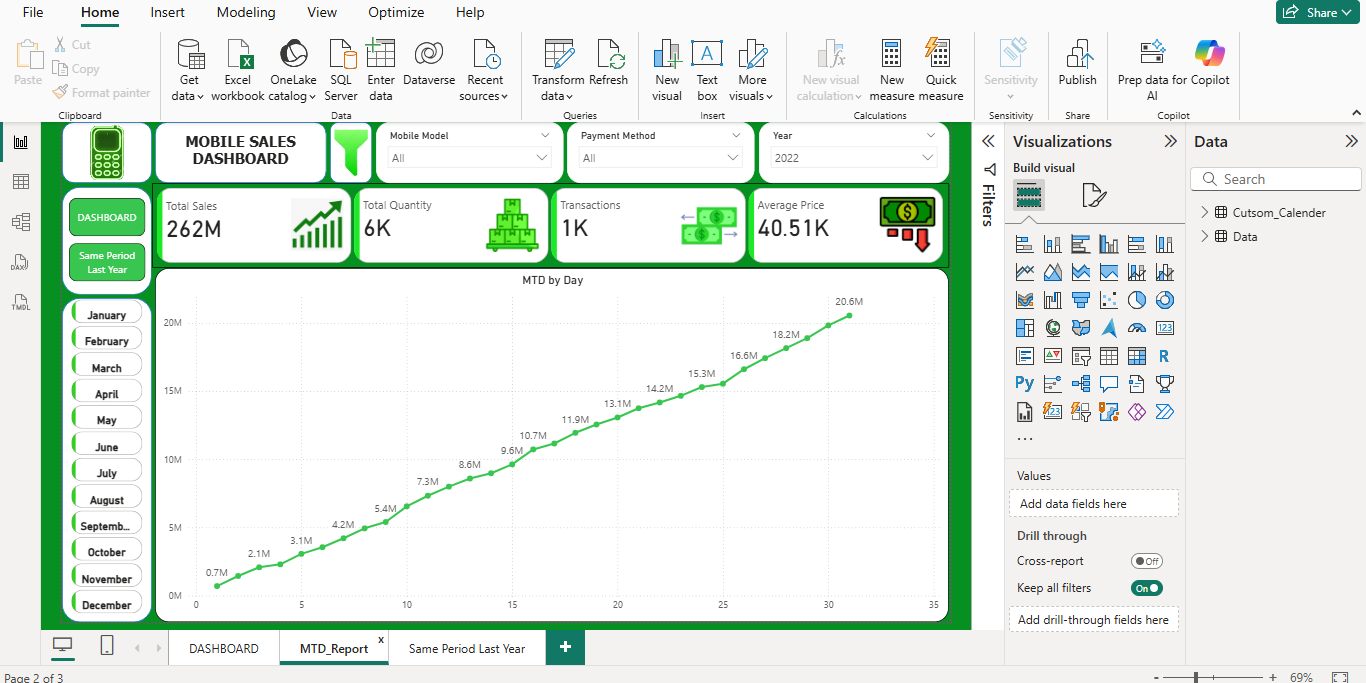

This screenshot's page, from the dashboard's own definition file:
{"tool":"powerbi","page":{"name":"MTD_Report","canvas":[1280,720],"ordinal":1},"visuals":[{"type":"shape","box":[0,0,129.6,87.8],"z":0},{"type":"image","box":[0,0,129.6,87.8],"z":1000},{"type":"shape","box":[0,93,129,155],"z":2000},{"type":"cardVisual","fields":{"Data":["Data.Total Sales","Data.Total Quantity","Data.Transactions","Data.Average Price"]},"box":[129.6,87.8,1147.7,122.4],"z":3000},{"type":"slicer","fields":{"Values":["Data.Mobile Model"]},"box":[452,0,270,87.8],"z":4000},{"type":"shape","box":[386,0,60.5,87.8],"z":5000},{"type":"slicer","fields":{"Values":["Data.Payment Method"]},"box":[727,0,270,87.8],"z":6000},{"type":"shape","box":[133.9,0,247,87.8],"z":7000},{"type":"slicer","fields":{"Values":["Cutsom_Calender.Date.Variation.Date Hierarchy.Year"]},"box":[1004,0,274,87.8],"z":8000},{"type":"image","box":[387.4,0,57.6,87.8],"z":9000},{"type":"textbox","box":[141.1,10.1,231.8,64.8],"z":10000},{"type":"lineChart","fields":{"Y":["Data.MTD"],"Category":["Cutsom_Calender.Date.Variation.Date Hierarchy.Year","Cutsom_Calender.Date.Variation.Date Hierarchy.Quarter","Cutsom_Calender.Date.Variation.Date Hierarchy.Month","Cutsom_Calender.Date.Variation.Date Hierarchy.Day"]},"box":[133.9,210.2,1143.4,509.8],"z":11000},{"type":"shape","box":[0,253,129.6,467],"z":12000},{"type":"advancedSlicerVisual","fields":{"Values":["Cutsom_Calender.Date.Variation.Date Hierarchy.Month"]},"box":[8.6,250.6,112.3,469.4],"z":13000},{"type":"pageNavigator","box":[10.1,109.4,110.9,121],"z":14000}]}

Visuals, with their boxes on the page's 1280x720 design canvas (x1, y1, x2, y2). These are canvas units, not pixel positions in the 1366x683 screenshot, which may show the page scaled, cropped or inside an application window:
shape: box=[0, 0, 130, 88]
image: box=[0, 0, 130, 88]
shape: box=[0, 93, 129, 248]
cardVisual - Data.Total Sales x Data.Total Quantity: box=[130, 88, 1277, 210]
slicer - Data.Mobile Model: box=[452, 0, 722, 88]
shape: box=[386, 0, 446, 88]
slicer - Data.Payment Method: box=[727, 0, 997, 88]
shape: box=[134, 0, 381, 88]
slicer - Cutsom_Calender.Date.Variation.Date Hierarchy.Year: box=[1004, 0, 1278, 88]
image: box=[387, 0, 445, 88]
textbox: box=[141, 10, 373, 75]
lineChart - Data.MTD x Cutsom_Calender.Date.Variation.Date Hierarchy.Year: box=[134, 210, 1277, 720]
shape: box=[0, 253, 130, 720]
advancedSlicerVisual - Cutsom_Calender.Date.Variation.Date Hierarchy.Month: box=[9, 251, 121, 720]
pageNavigator: box=[10, 109, 121, 230]
